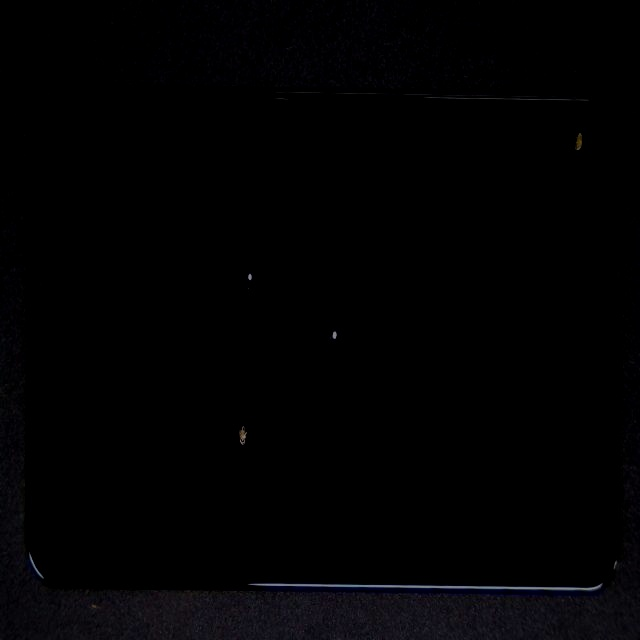stain: (202, 163, 531, 473), (144, 210, 372, 619), (120, 77, 360, 405), (307, 88, 640, 197)
